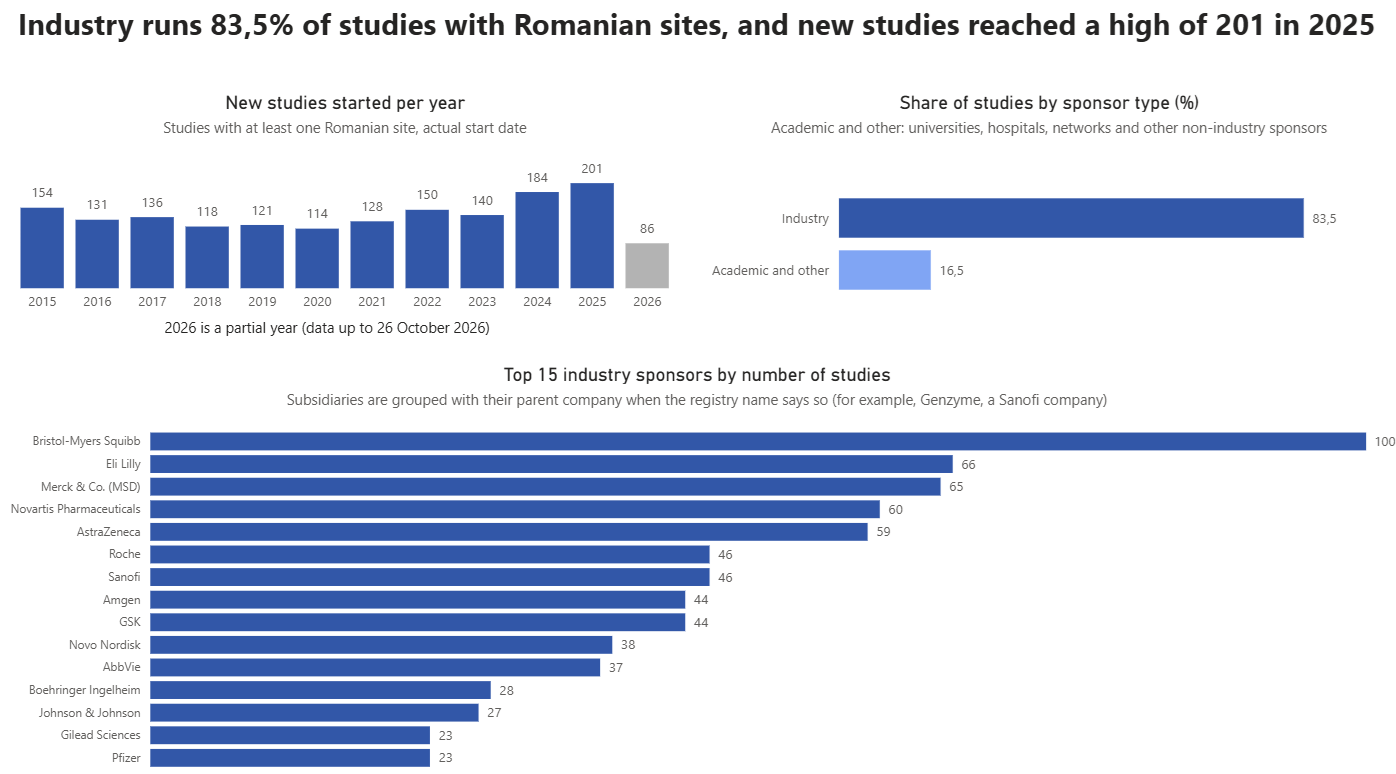

The dashboard page shown, as its layout file describes it:
{"tool":"powerbi","page":{"name":"Overview","canvas":[1280,720],"ordinal":0},"visuals":[{"type":"clusteredColumnChart","title":"New studies started per year","fields":{"Category":["studies_per_year.startYear"],"Y":["Sum(studies_per_year.studies)"]},"box":[0,91.4,640,209.1],"z":0},{"type":"textbox","box":[150.8,292.8,314.2,29.2],"z":1000},{"type":"textbox","box":[0,7.2,1279.7,84.2],"z":2000},{"type":"clusteredBarChart","title":"Share of studies by sponsor type (%)","fields":{"Category":["sponsor_class_split.sponsorType"],"Y":["Sum(sponsor_class_split.pct)"]},"box":[640,91.8,640,230],"z":3000},{"type":"clusteredBarChart","title":"Top 15 industry sponsors by number of studies","fields":{"Category":["top_industry_sponsors.sponsorName"],"Y":["Sum(top_industry_sponsors.studies)"]},"box":[0,339.5,1280,380.3],"z":4000}]}

Visuals, with their boxes in screenshot pixels (x1, y1, x2, y2), scaled from the page's 1280x720 canvas onto the 1396x774 screenshot:
"New studies started per year" clusteredColumnChart: x1=0, y1=98, x2=698, y2=323
textbox: x1=164, y1=315, x2=507, y2=346
textbox: x1=0, y1=8, x2=1395, y2=98
"Share of studies by sponsor type (%)" clusteredBarChart: x1=698, y1=99, x2=1395, y2=346
"Top 15 industry sponsors by number of studies" clusteredBarChart: x1=0, y1=365, x2=1395, y2=773
